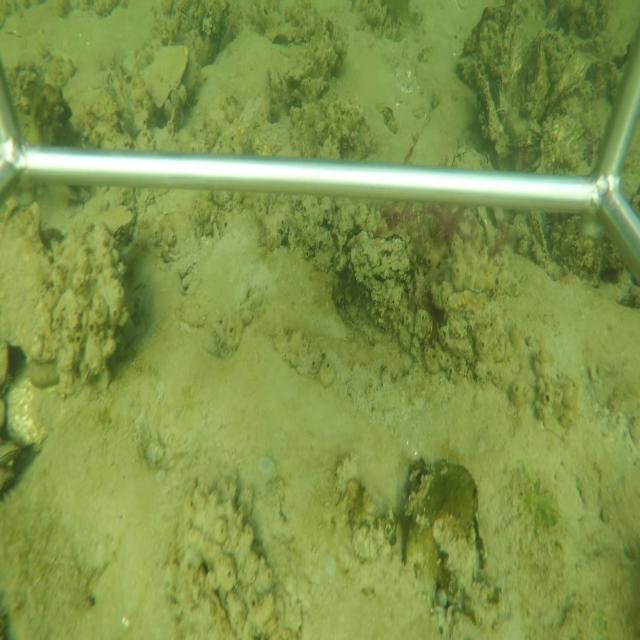Oyster-Closed: (340, 225, 417, 292)
Oyster-Indeterminate: (0, 197, 59, 364), (141, 42, 191, 109)
